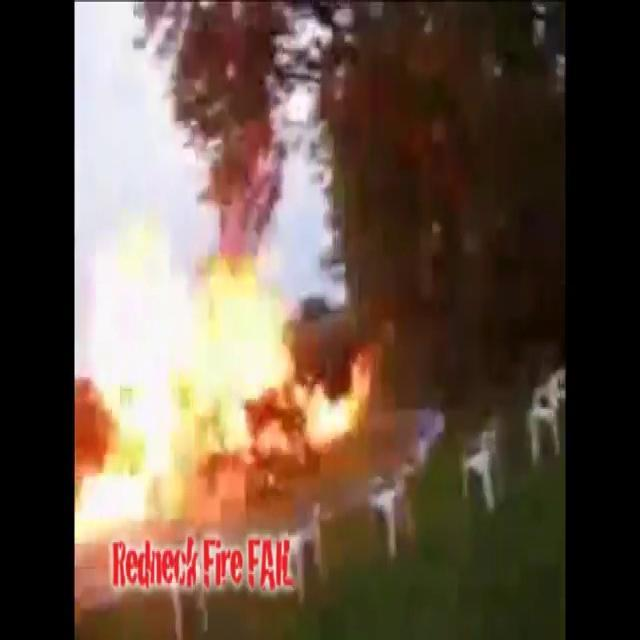Fire: (77, 241, 386, 593)
